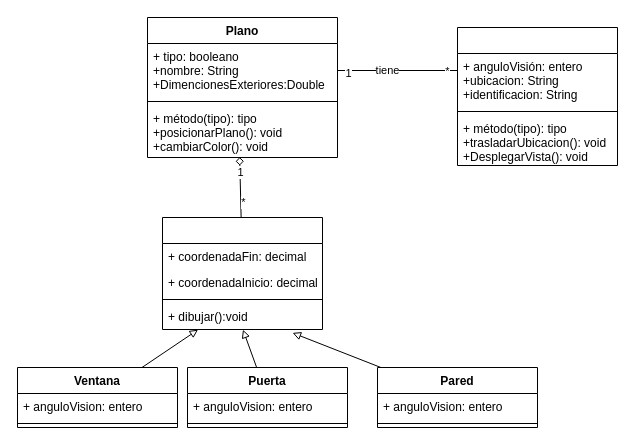
Image size: 635x445. Some labels were removed from this diagram. Each missing label, with the box of its shape:
Camara: (456, 26, 618, 166)
Segmento: (162, 216, 322, 330)
